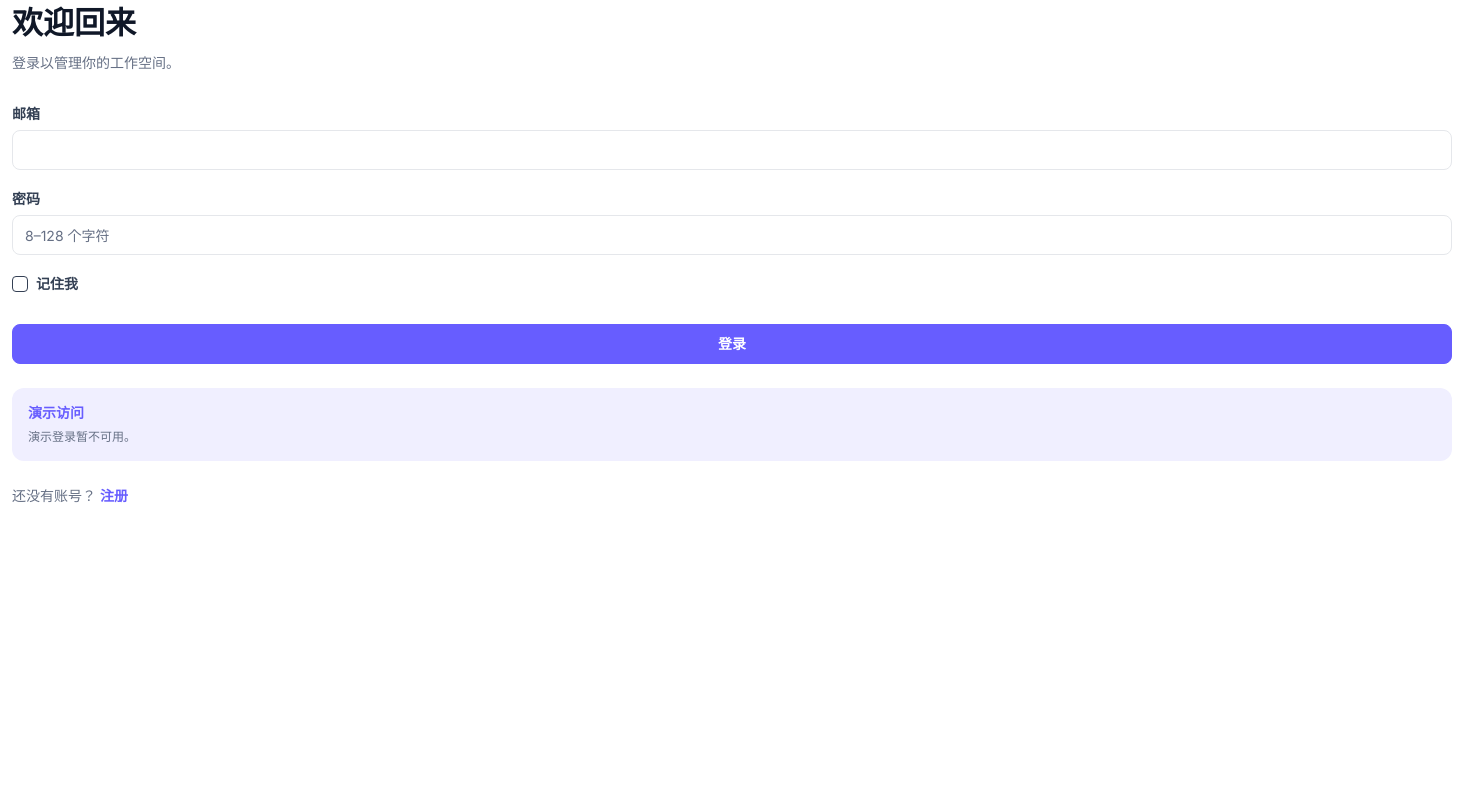
Chinese login failure feedback › shows Chinese validation and links it accessibly to the invalid field
Click the button "登录" at [732, 344], box [12, 324, 1452, 364]
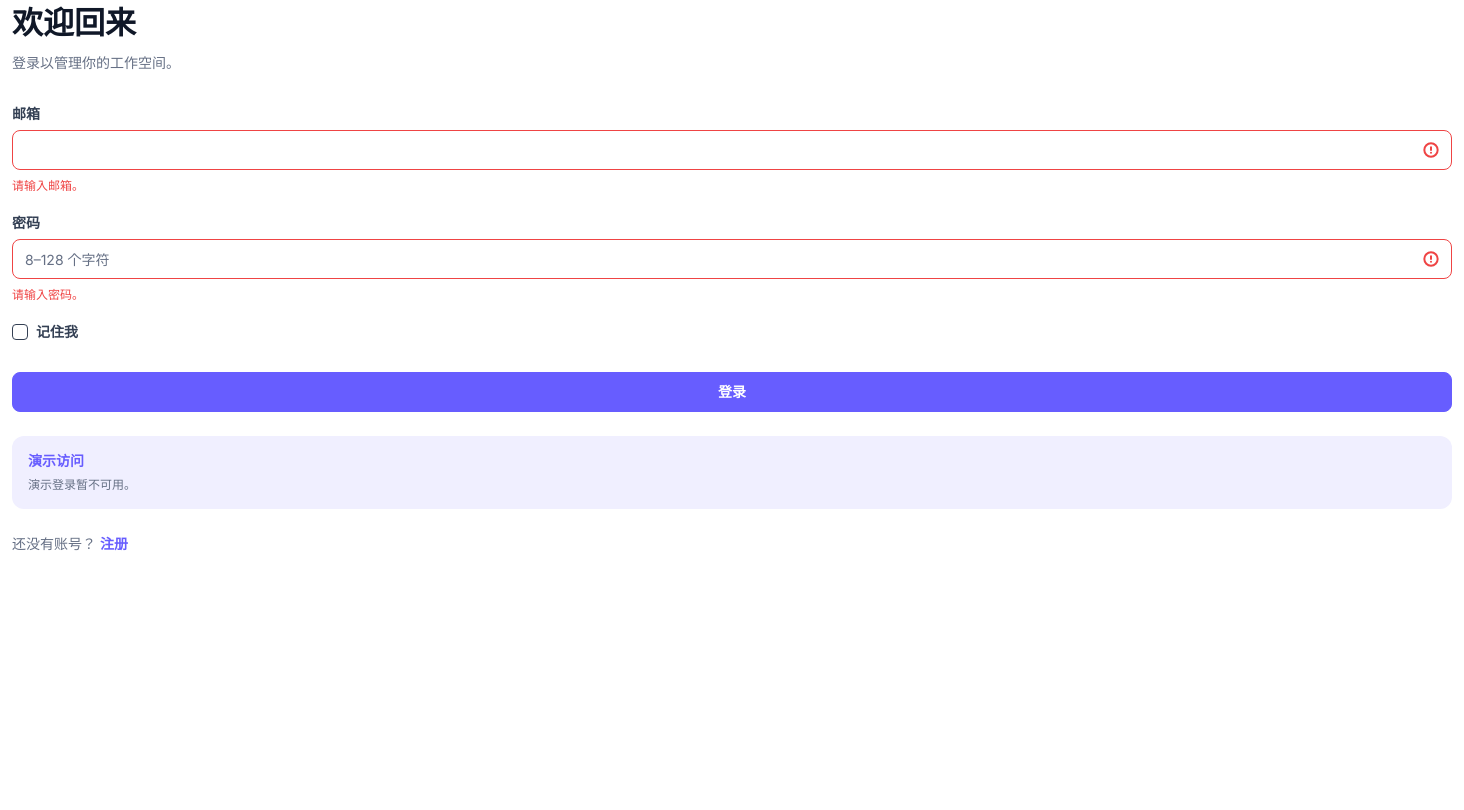
Expected: the message with id "email-error" does not show "Email is required.", [12, 178, 84, 193]
Expected: the message with id "email-error" shows "邮箱", [12, 178, 84, 193]
